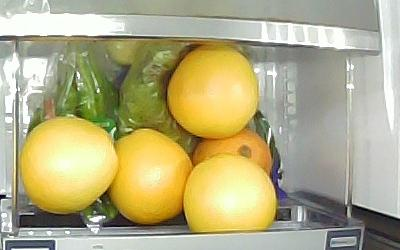grapefruit: (19, 115, 119, 215), (166, 43, 257, 140), (181, 153, 278, 233), (106, 128, 188, 222), (190, 127, 272, 181)
